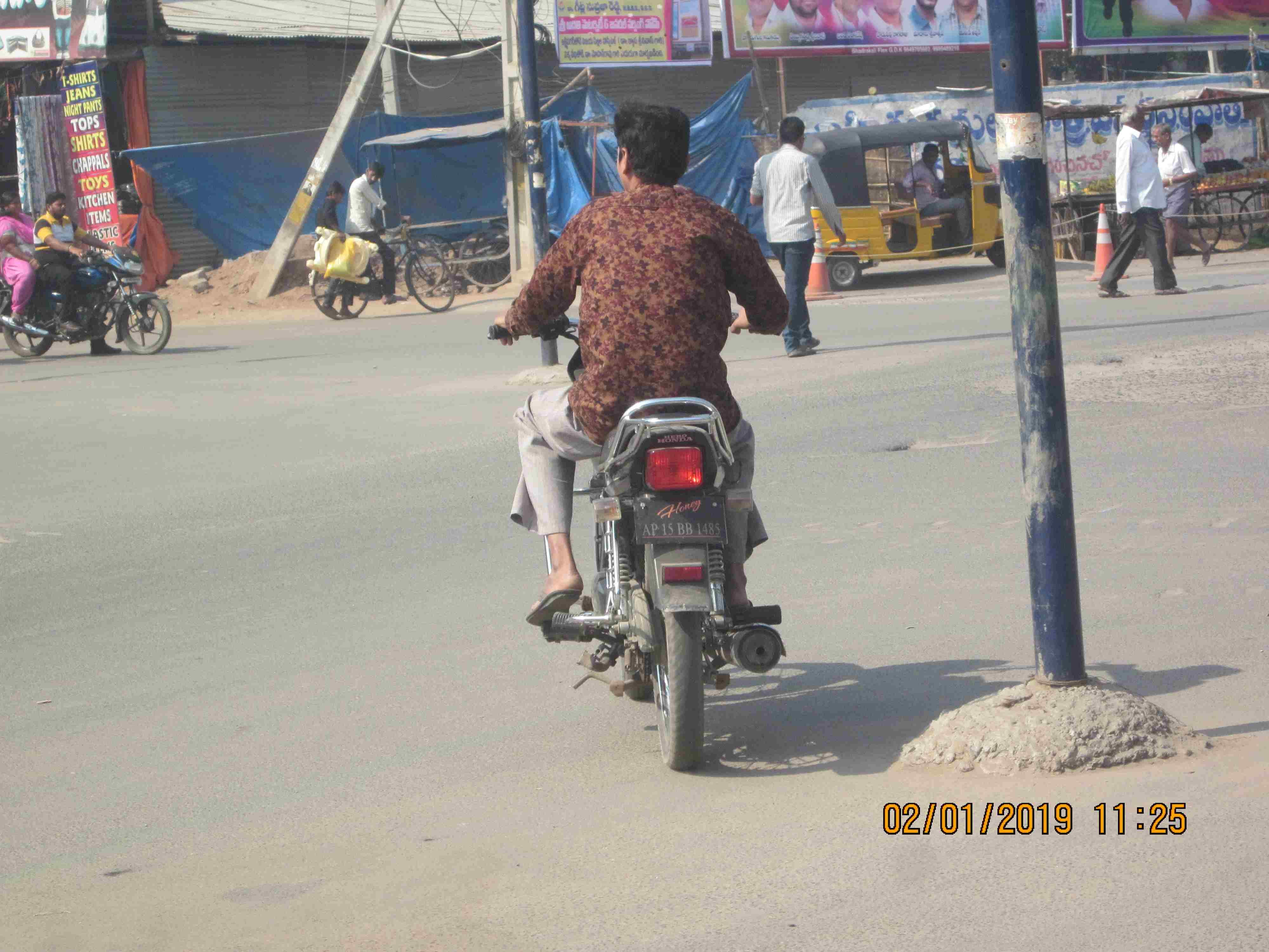plate: (629, 486, 733, 551)
